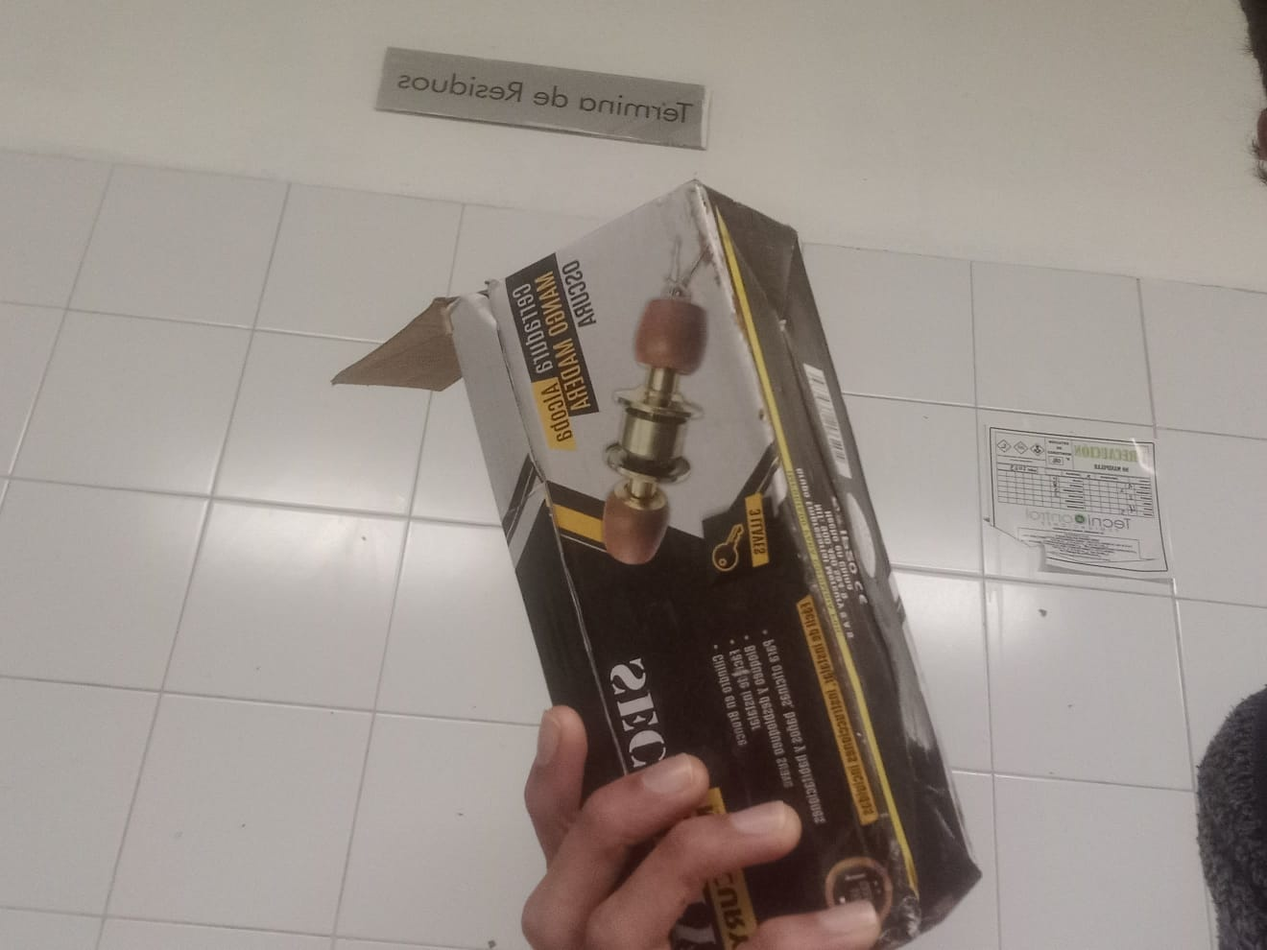Carton: (447, 180, 981, 950)
